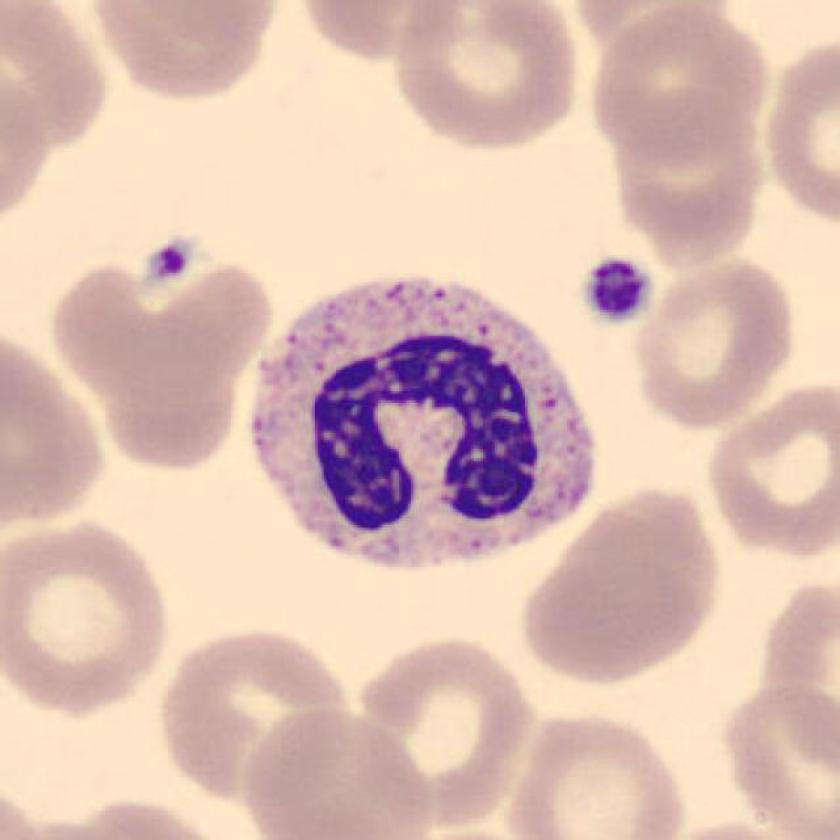neutrophil: (257, 274, 592, 569)
